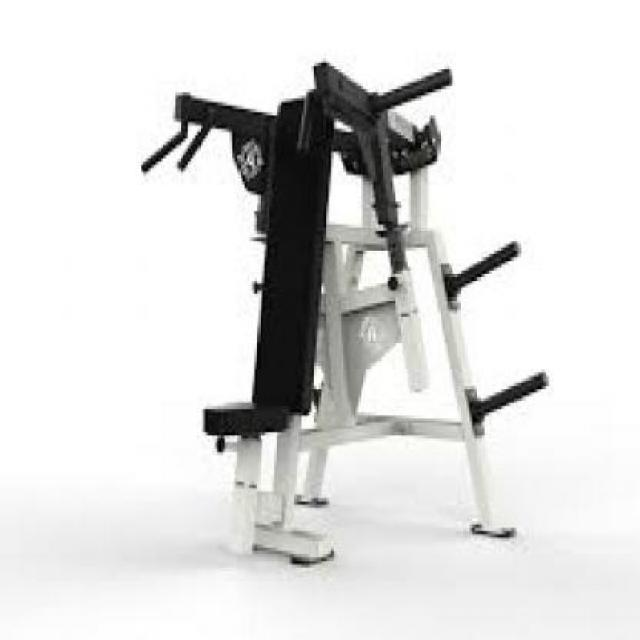shoulder press machine: (136, 49, 558, 576)
